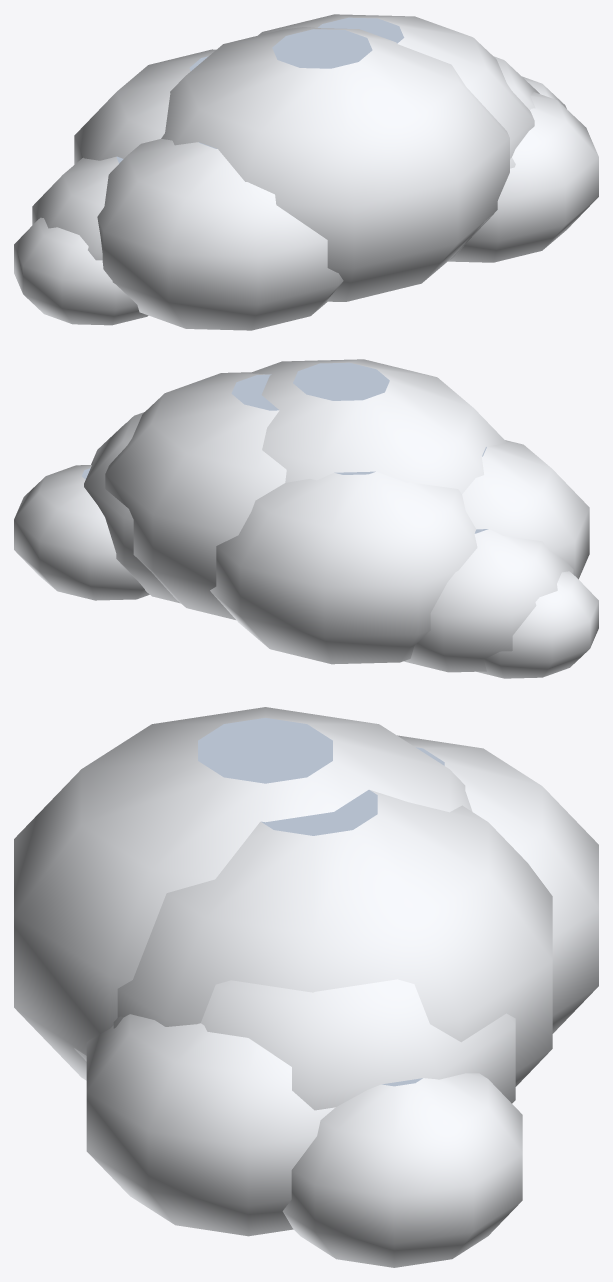
The model's file is SM_Env_Cloud_HQ.glb.
3 views of the same model, one above another, from view 1: azimuth 30°, elevation 25°; view 2: azimuth 150°, elevation 25°; view 3: azimuth 270°, elevation 25° (orthographic). The views are drawn at different scales.
Visible parts, largest first — view 1: SM_Env_Cloud_HQ; view 2: SM_Env_Cloud_HQ; view 3: SM_Env_Cloud_HQ.
Part boxes in pixels (x1,y1,x2,y2): SM_Env_Cloud_HQ: (14, 14, 598, 330); SM_Env_Cloud_HQ: (14, 359, 598, 678); SM_Env_Cloud_HQ: (14, 707, 598, 1267).
Bounding box in the file's own units: 12.52 × 4.92 × 7.49.
1 material, 1 textured.
